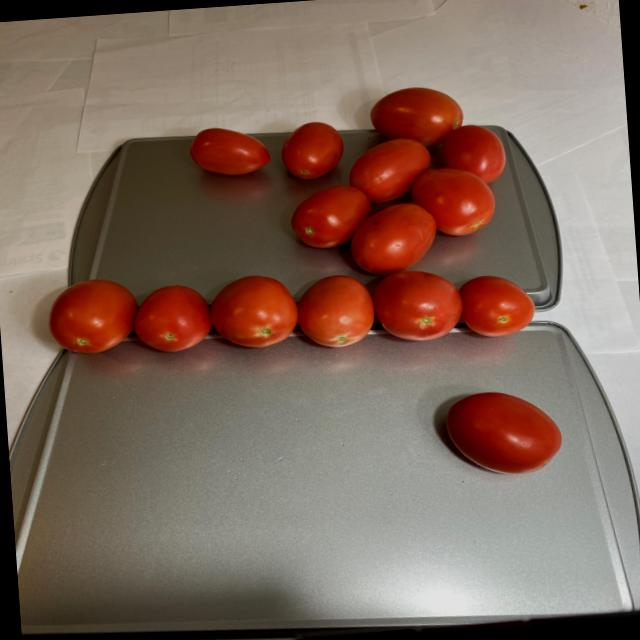tomato: (32, 79, 552, 365), (443, 386, 568, 478)
